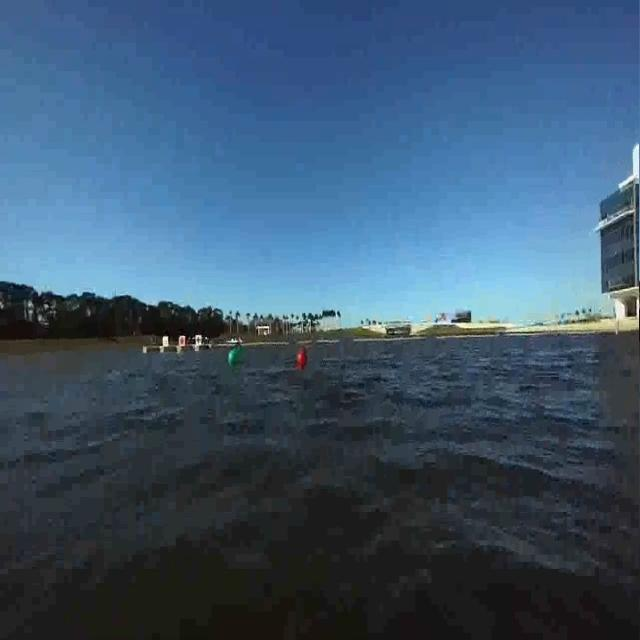green-buoy: (224, 350, 244, 366)
red-buoy: (296, 343, 310, 372)
